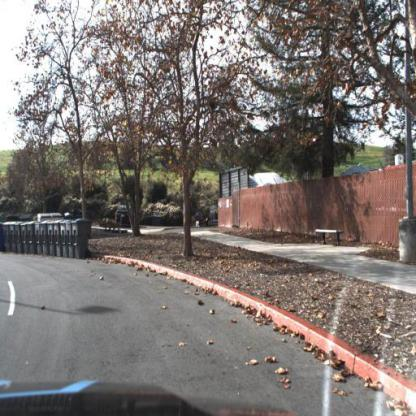car: (115, 200, 137, 230), (116, 203, 136, 229)
